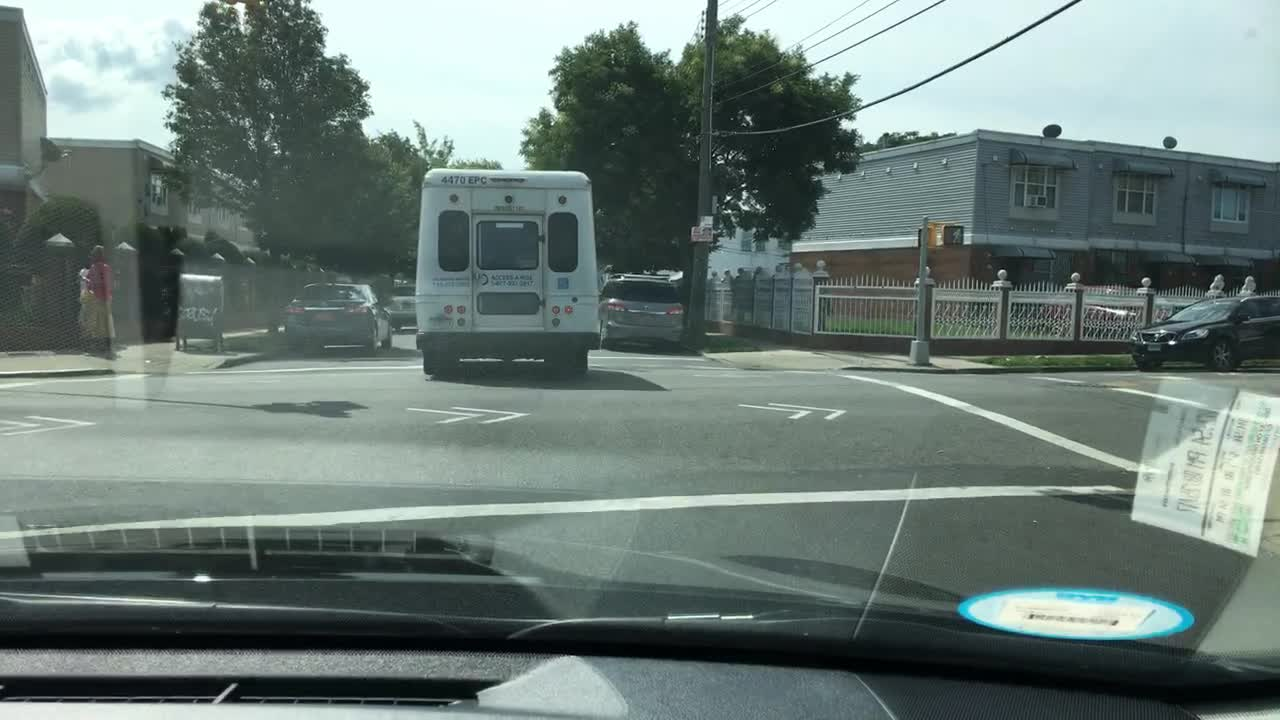bus: (416, 166, 599, 376)
car: (1130, 294, 1279, 370), (595, 269, 686, 360), (283, 283, 393, 352), (1042, 282, 1166, 340), (384, 283, 420, 326)
person: (76, 245, 118, 352)
traffic light: (914, 223, 935, 248), (944, 222, 964, 246)
